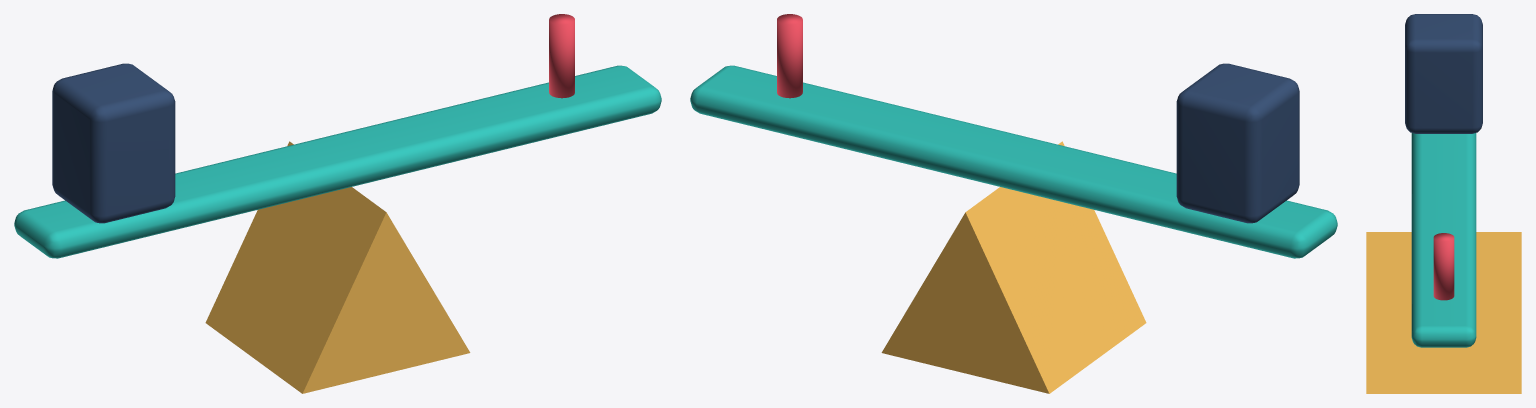
Rendered from lever-quality.glb.
3 renders of one model, left to right at view 1: azimuth 30°, elevation 25°; view 2: azimuth 150°, elevation 25°; view 3: azimuth 270°, elevation 25°, orthographic. The views are drawn at different scales.
Parts seen in each view (by area): view 1: Fulcrum; view 2: Fulcrum; view 3: Fulcrum.
Boxes of the visible parts, bbox=[...] form: Fulcrum: bbox=[14, 14, 661, 393]; Fulcrum: bbox=[690, 14, 1337, 393]; Fulcrum: bbox=[1366, 14, 1521, 393].
Size of the model in its own units: 2.2 by 1.05 by 0.6.
